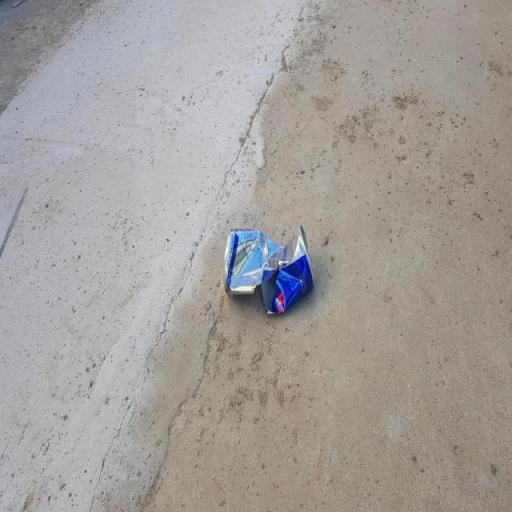metal: (210, 169, 342, 352)
